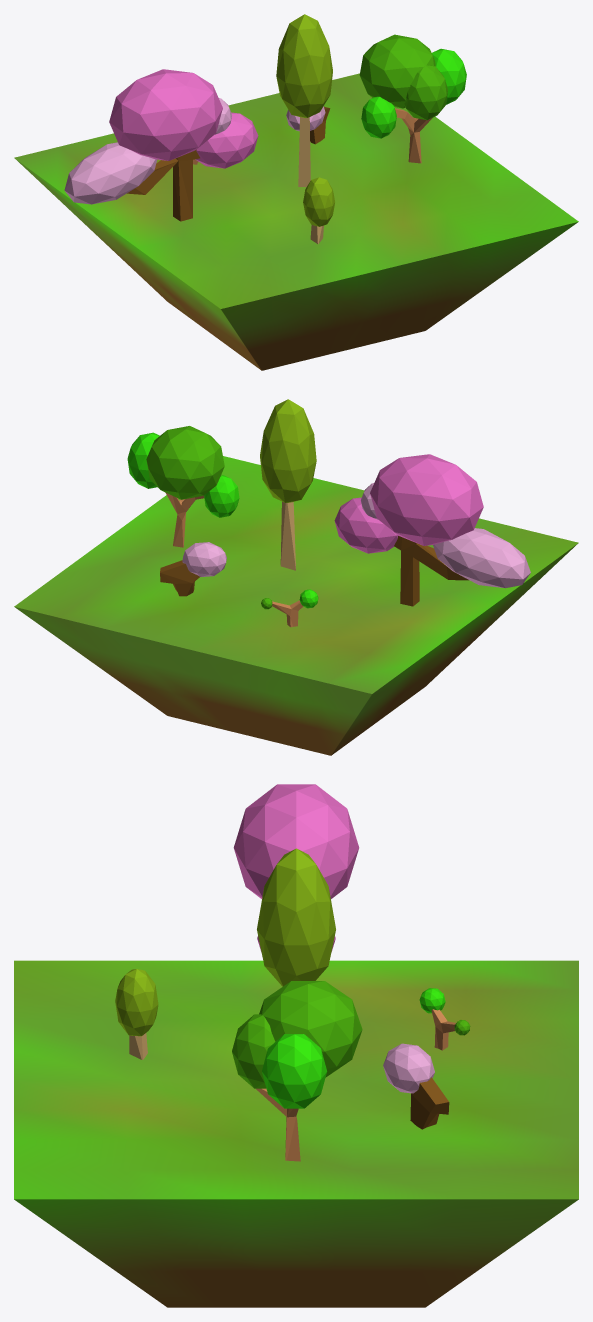
3 views of the same model, one above another, from view 1: azimuth 30°, elevation 25°; view 2: azimuth 150°, elevation 25°; view 3: azimuth 270°, elevation 25° (orthographic). The views are drawn at different scales.
Visible parts, largest first — view 1: Base.005, Tree3 - 2.002, Tree1 - 2.002, Tree2 - 2.002, Tree2 - 1.012, Tree3 - 1.012; view 2: Base.005, Tree3 - 2.002, Tree1 - 2.002, Tree2 - 2.002, Tree3 - 1.012, Tree1 - 1.012; view 3: Base.005, Tree1 - 2.002, Tree3 - 2.002, Tree2 - 2.002, Tree3 - 1.012, Tree2 - 1.012, Tree1 - 1.012.
Boxes of the visible parts, x1,y1,x2,y2 form: Base.005: (14,73,578,370); Tree3 - 2.002: (64,69,258,221); Tree1 - 2.002: (359,34,466,163); Tree2 - 2.002: (276,14,332,187); Tree2 - 1.012: (303,177,334,243); Tree3 - 1.012: (286,106,330,144); Base.005: (14,456,578,755); Tree3 - 2.002: (334,454,530,606); Tree1 - 2.002: (127,426,239,547); Tree2 - 2.002: (260,399,316,570); Tree3 - 1.012: (160,542,226,596); Tree1 - 1.012: (261,589,318,627); Base.005: (14,960,578,1307); Tree1 - 2.002: (232,981,362,1161); Tree3 - 2.002: (233,784,359,952); Tree2 - 2.002: (257,848,335,986); Tree3 - 1.012: (383,1043,449,1129); Tree2 - 1.012: (115,969,158,1059); Tree1 - 1.012: (419,988,470,1050).
Bounding box in the file's own units: 16.37 × 11.5 × 14.36.
